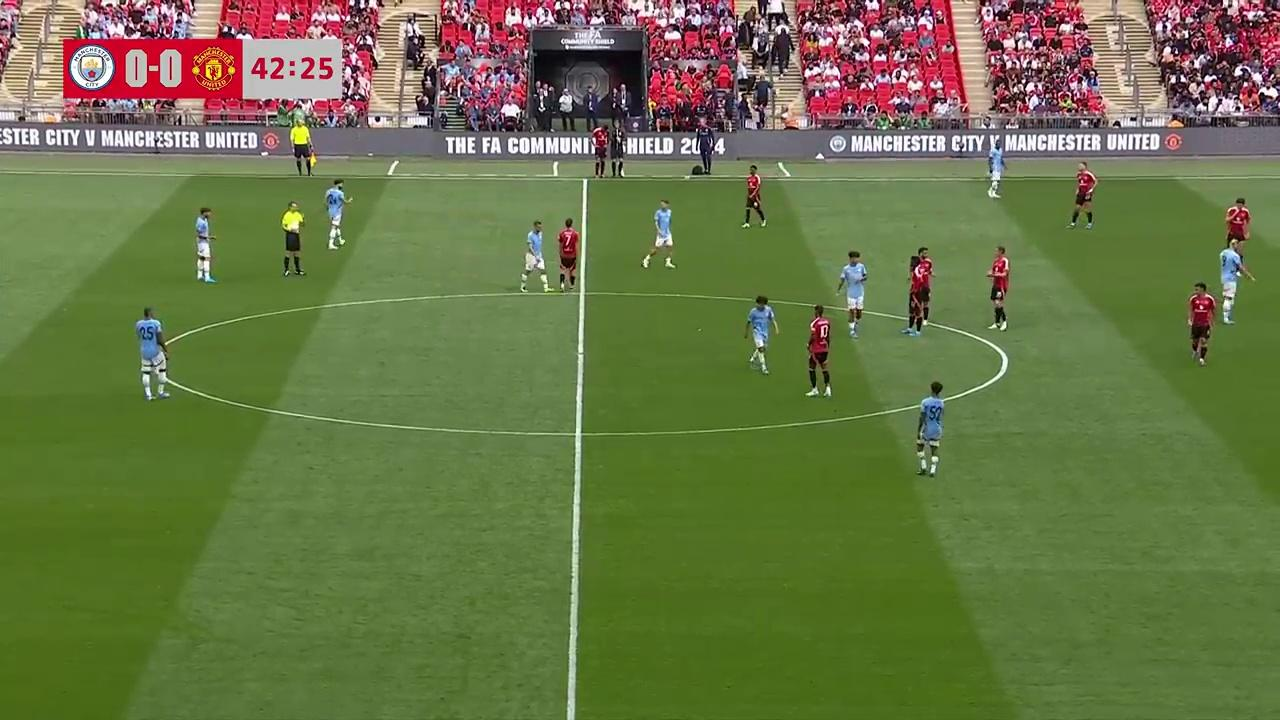player: (135, 307, 170, 400), (915, 380, 946, 477), (743, 295, 779, 374), (836, 249, 868, 336), (641, 199, 677, 270), (805, 304, 832, 398), (1187, 281, 1217, 365), (906, 246, 934, 335), (520, 220, 551, 294), (1218, 240, 1245, 324), (1067, 161, 1098, 230), (1224, 196, 1252, 270), (986, 245, 1010, 331), (322, 179, 351, 249), (194, 207, 218, 282), (556, 217, 578, 292), (741, 166, 766, 228), (1218, 240, 1253, 283), (986, 142, 1007, 199)
referee: (280, 201, 306, 278), (291, 116, 313, 177), (593, 127, 608, 178)
